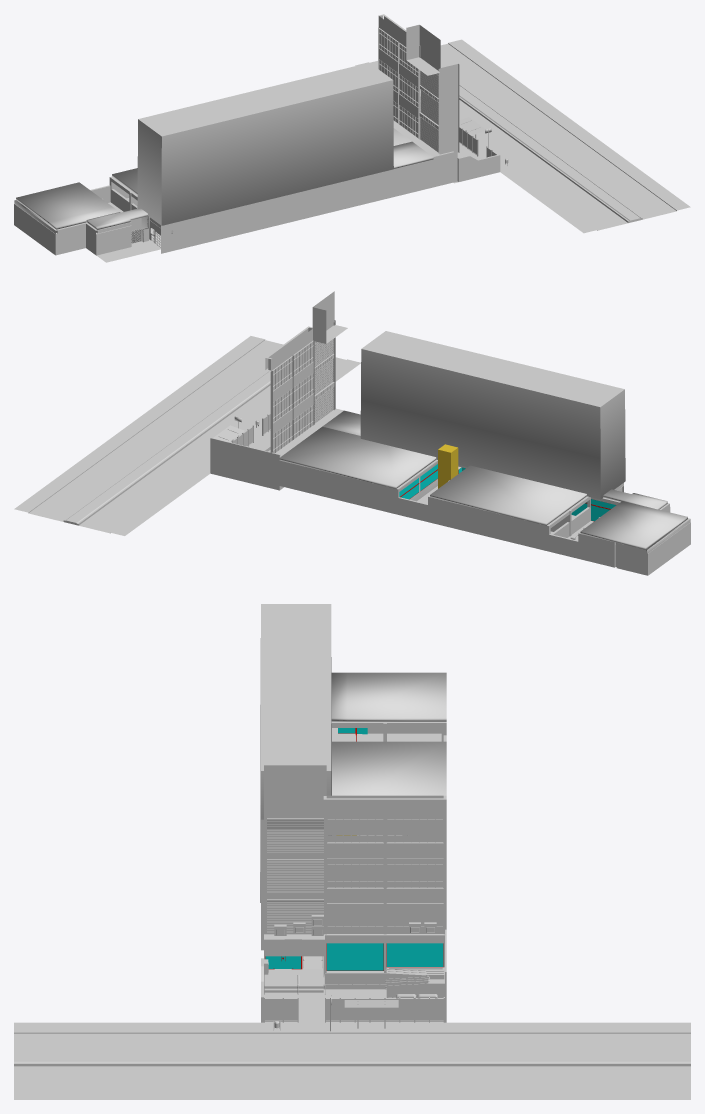
The model's file is REPLICBOEVO.fbx.
3 renders of one model, top to bottom at view 1: azimuth 30°, elevation 25°; view 2: azimuth 150°, elevation 25°; view 3: azimuth 270°, elevation 25°, orthographic. The views are drawn at different scales.
Parts seen in each view (by area): view 1: Cube.053, Plane.078, Cube.023, Plane.079, Plane.006, Plane.113, Plane.293, Plane.114, Plane.033, Plane.127, Plane.155, Plane.247 (+6 smaller); view 2: Cube.053, Plane.078, Cube.023, Plane.297, Plane.299, Plane.079, Plane.008, Plane.007, Plane.293, Plane.031, Plane.127, Plane.192 (+9 smaller); view 3: Plane.078, Cube.023, Cube.053, Plane.079, Plane.299, Plane.293, Plane.032, Plane.320, Plane.321, chao.003, Plane.122, Cube.009.
Part boxes in pixels (box(x1,y1,x2,y2)): Cube.053: box(137, 62, 393, 225); Plane.078: box(355, 39, 690, 233); Cube.023: box(378, 14, 459, 154); Plane.079: box(459, 84, 642, 222); Plane.006: box(358, 152, 457, 205); Plane.113: box(259, 178, 358, 229); Plane.293: box(16, 182, 119, 229); Plane.114: box(161, 202, 258, 253); Plane.033: box(457, 154, 500, 181); Plane.127: box(14, 203, 54, 254); Plane.155: box(95, 225, 131, 255); Plane.247: box(393, 141, 433, 168); Cube.053: box(360, 331, 625, 499); Plane.078: box(14, 336, 360, 535); Cube.023: box(265, 291, 347, 453); Plane.297: box(279, 426, 436, 488); Plane.299: box(430, 465, 586, 525); Plane.079: box(63, 371, 270, 525); Plane.008: box(428, 496, 549, 551); Plane.007: box(279, 460, 399, 514); Plane.293: box(580, 501, 687, 549); Plane.031: box(210, 438, 280, 490); Plane.127: box(646, 523, 689, 575); Plane.192: box(578, 532, 615, 567); Plane.078: box(14, 1022, 690, 1099); Cube.023: box(261, 765, 446, 950); Cube.053: box(260, 604, 331, 902); Plane.079: box(14, 1053, 690, 1066); Plane.299: box(332, 741, 446, 795); Plane.293: box(331, 672, 446, 721); Plane.032: box(264, 989, 443, 1022); Plane.320: box(326, 943, 383, 970); Plane.321: box(386, 943, 443, 967); chao.003: box(265, 956, 323, 984); Plane.122: box(323, 934, 444, 943); Cube.009: box(331, 721, 443, 741).
Size of the model in its own units: 8765 by 2601 by 6555.
